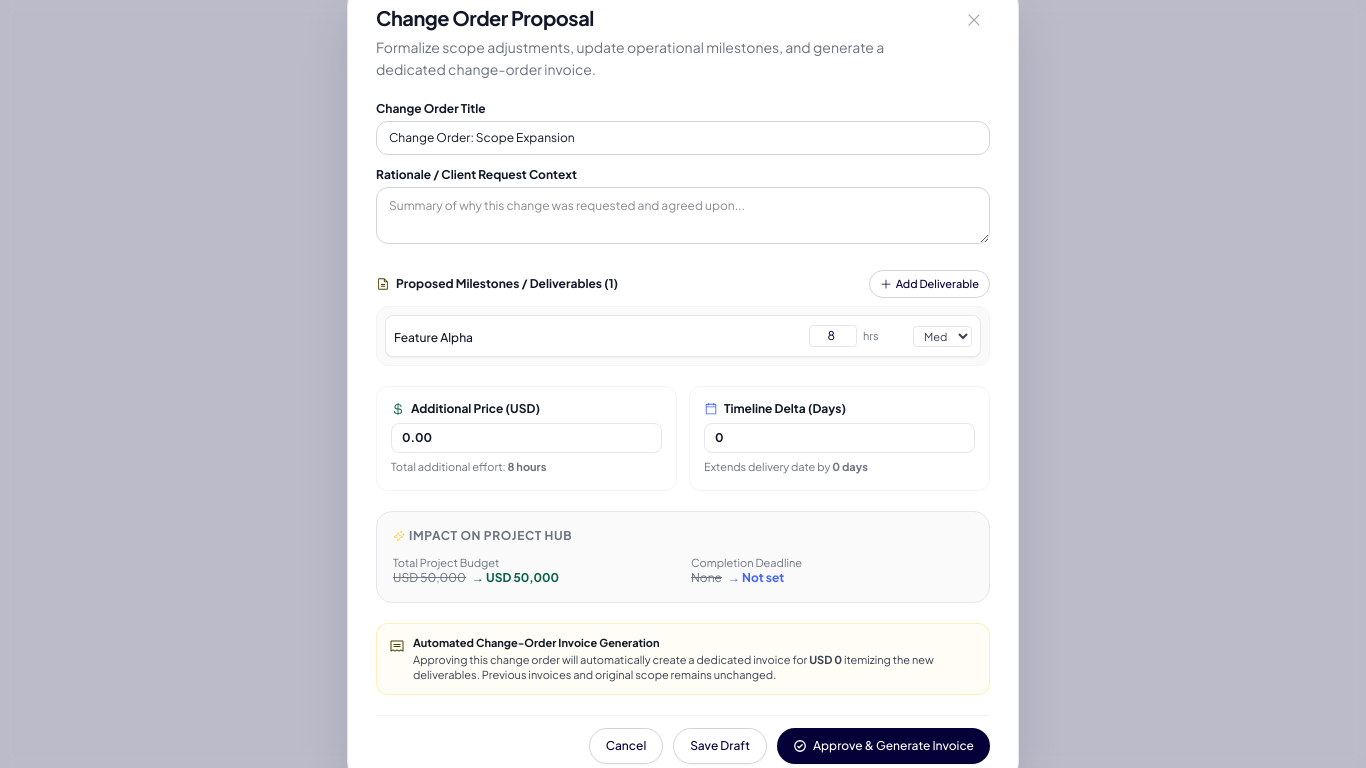
ChangeOrderProposalModal › updates total effort when user edits deliverable hours
Replace the text in the number field showing "8" next to "hrs" with "14" at (833, 336), box [809,325,857,347]
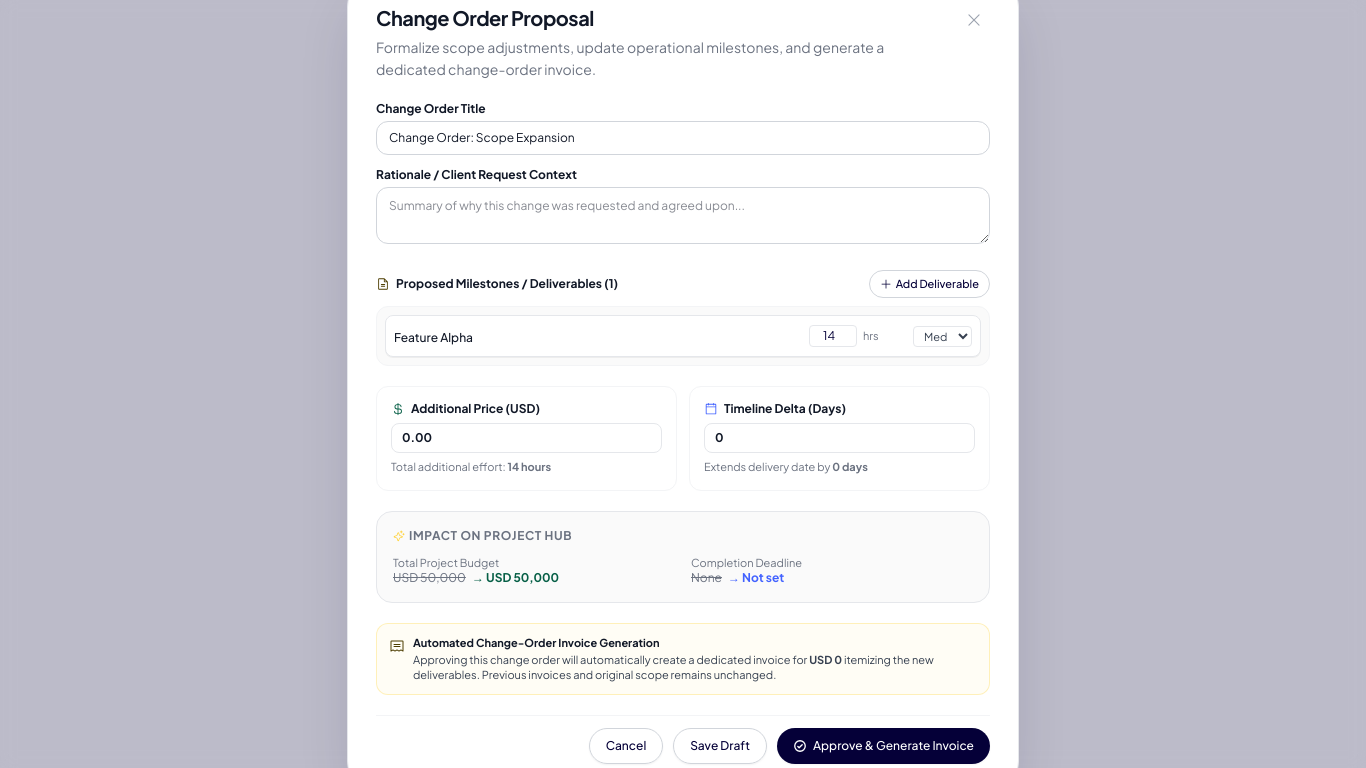
Expected: the text "14 hours" is shown, [508,460,551,473]
